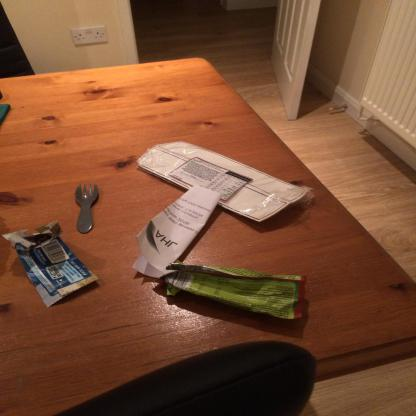kagit: (130, 184, 222, 278)
plastik: (134, 140, 314, 224), (154, 262, 308, 322), (1, 219, 99, 309)
